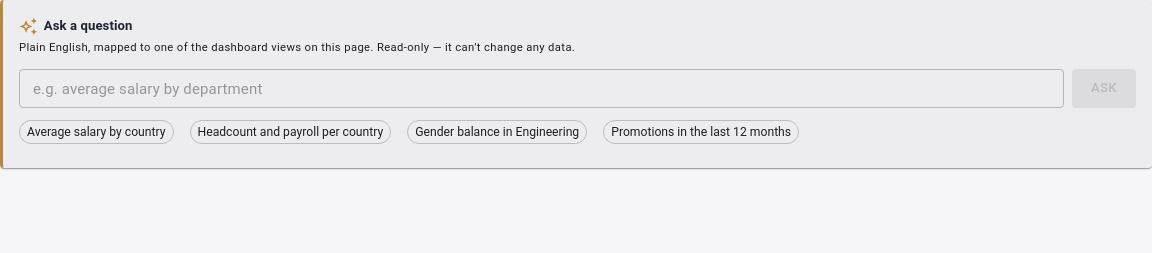
Test: NLQueryBox › surfaces a non-503 ApiError message (e.g. a 422)
The width and height of the screenshot is (1152, 253).
Type "x" into the field named "Analytics question" at (542, 89), box [19,69,1064,108]
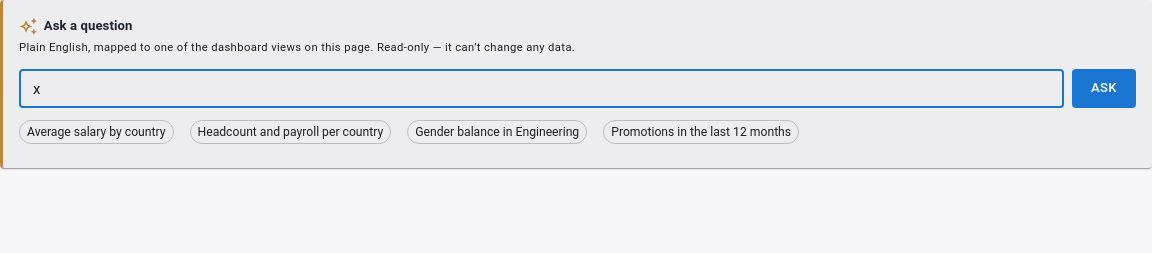
Click the button "Ask" at (1104, 89), box [1072,69,1136,108]
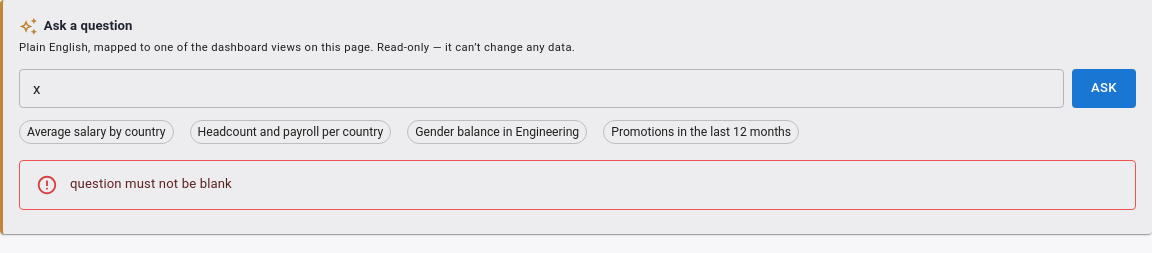
Check: the text "question must not be blank" is shown, box [70,176,232,191]
